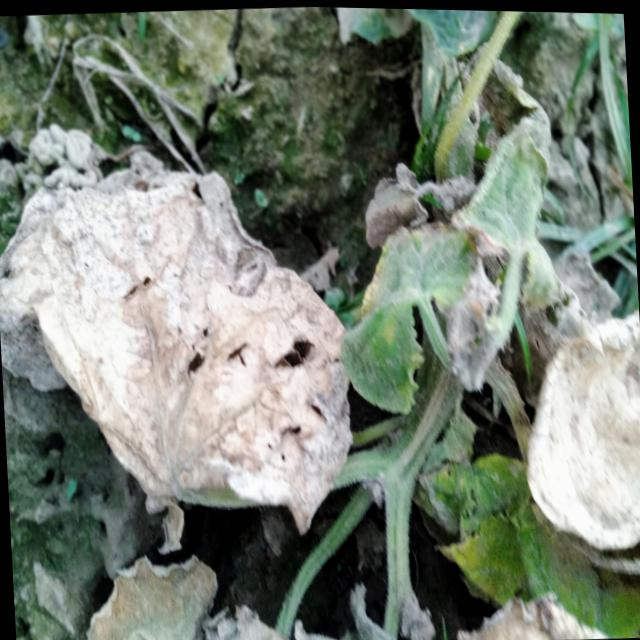Bacterial-Wilt: (0, 148, 351, 552), (524, 306, 640, 555)
